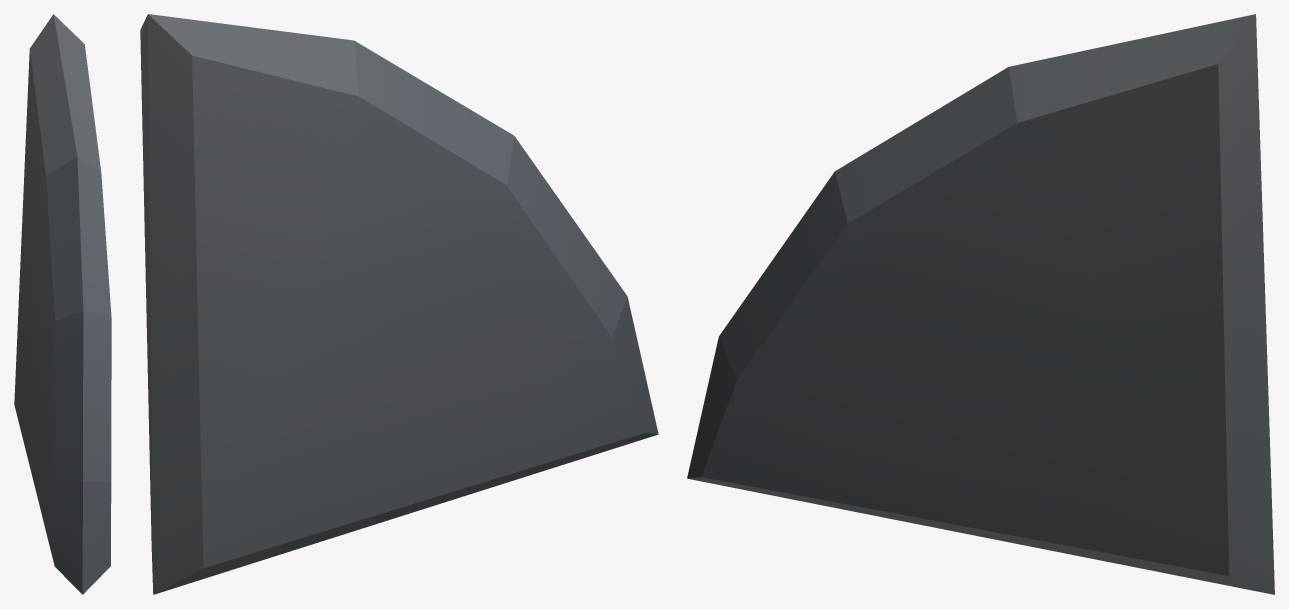
Rendered from sharkAnimated.fbx.
3 views of the same model, side by side, from view 1: azimuth 30°, elevation 25°; view 2: azimuth 150°, elevation 25°; view 3: azimuth 270°, elevation 25° (orthographic). The views are drawn at different scales.
Parts seen in each view (by area): view 1: Shark; view 2: Shark; view 3: Shark.
Part boxes in pixels (bbox=[...]): Shark: bbox=[14, 14, 111, 594]; Shark: bbox=[140, 14, 658, 594]; Shark: bbox=[687, 14, 1274, 594].
Size of the model in its own units: 153 by 304 by 275.
